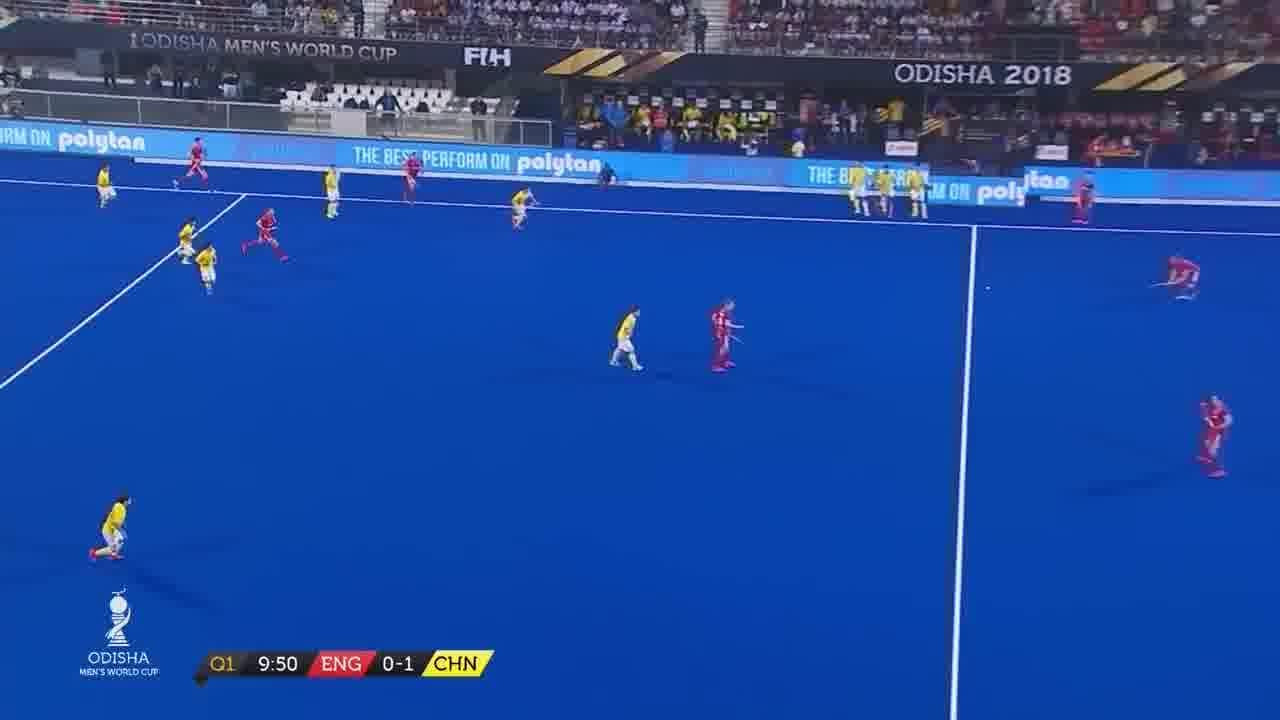ball: (983, 284, 995, 294)
